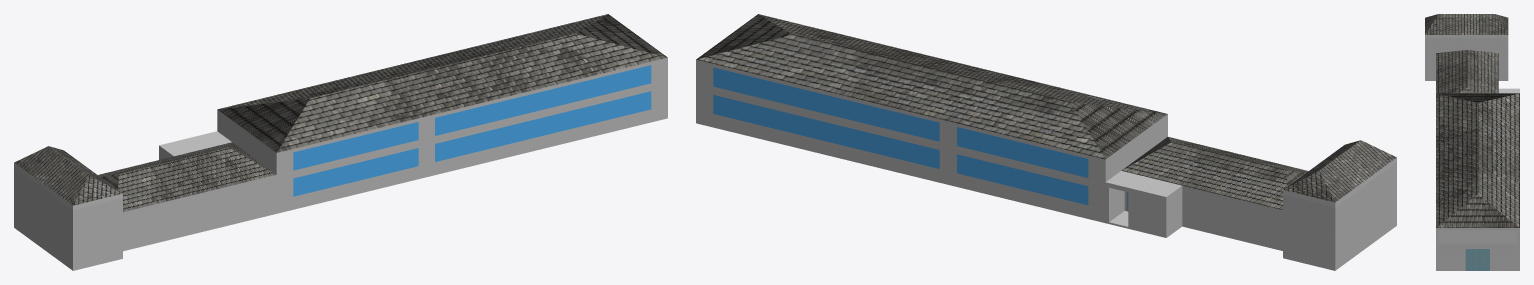
File: Pump_Station_1.glb
3 views of the same model, side by side, from view 1: azimuth 30°, elevation 25°; view 2: azimuth 150°, elevation 25°; view 3: azimuth 270°, elevation 25° (orthographic). The views are drawn at different scales.
Visible parts, largest first — view 1: Floor1, Roof; view 2: Floor1, Roof; view 3: Roof, Floor1.
Part boxes in pixels (box(x1,y1,x2,y2)): Floor1: box(14, 57, 667, 270); Roof: box(14, 14, 667, 216); Floor1: box(696, 59, 1396, 270); Roof: box(696, 14, 1396, 214); Roof: box(1425, 14, 1519, 227); Floor1: box(1425, 38, 1519, 270).
Size of the model in its own units: 72.47 by 9.5 by 13.99.
Materials: 5 (5 with a texture image).
